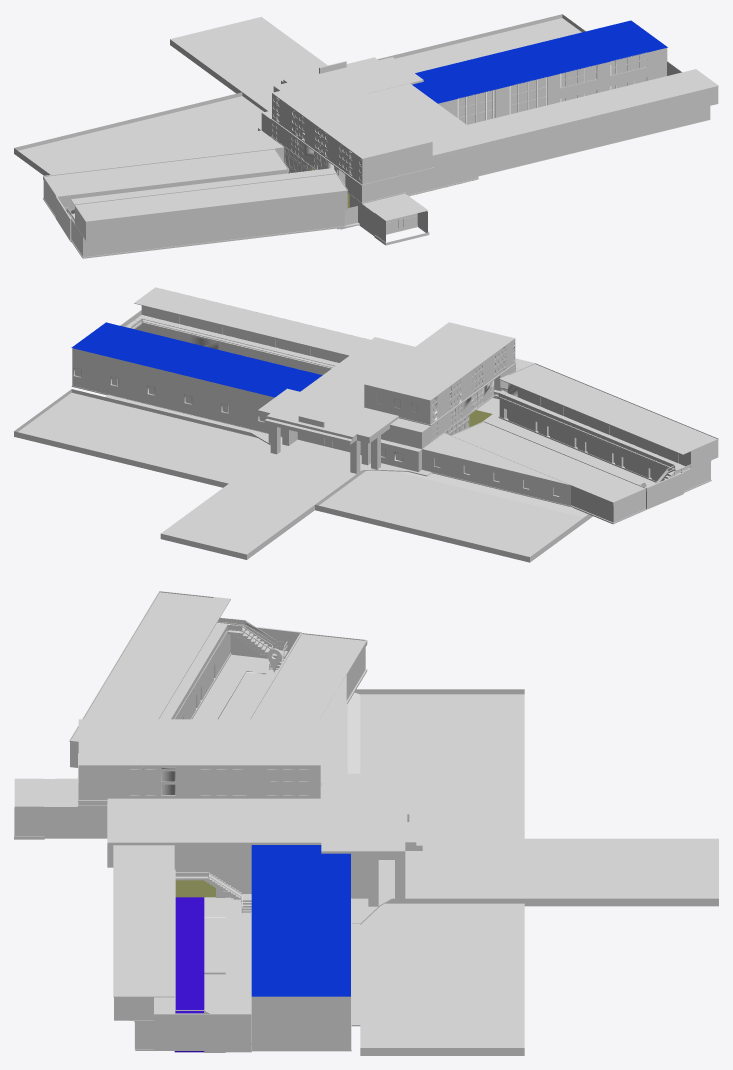
Rendered from BureauxDesProfs.gltf.
3 views of the same model, one above another, from view 1: azimuth 30°, elevation 25°; view 2: azimuth 150°, elevation 25°; view 3: azimuth 270°, elevation 25° (orthographic). The views are drawn at different scales.
Parts seen in each view (by area): view 1: building_134.001, building_008.001, Plane.025, Plane.012, Cube.104, building_008.003, building_048.008, Plane.021, building_004.003, building_048.005, Cube.107, Plane.013 (+19 smaller); view 2: building_134.001, Cube.104, Plane.013, Plane.025, building_008.003, building_048.008, building_131.001, Plane.021, building_004.003, building_008.005, building_048.005, building_008.001 (+22 smaller); view 3: building_134.001, Cube.104, Plane.025, building_048.008, Cube.107, building_008.003, Plane.021, Cube.105, building_004.003, Plane.026, Cube.008, Cube.007 (+27 smaller).
Part boxes in pixels (<box>): building_134.001: <box>18,18,616,174</box>; building_008.001: <box>64,191,347,258</box>; Plane.025: <box>412,20,667,103</box>; Plane.012: <box>478,73,718,176</box>; Cube.104: <box>170,17,327,111</box>; building_008.003: <box>70,168,348,222</box>; building_048.008: <box>272,75,432,158</box>; Plane.021: <box>467,69,718,141</box>; building_004.003: <box>44,149,287,196</box>; building_048.005: <box>271,93,433,185</box>; Cube.107: <box>367,83,489,157</box>; Plane.013: <box>438,48,667,123</box>; building_134.001: <box>14,392,583,562</box>; Cube.104: <box>160,456,352,559</box>; Plane.013: <box>71,327,302,437</box>; Plane.025: <box>71,322,322,397</box>; building_008.003: <box>499,363,718,454</box>; building_048.008: <box>364,322,514,400</box>; building_131.001: <box>422,433,570,506</box>; Plane.021: <box>134,287,370,355</box>; building_004.003: <box>453,422,644,501</box>; building_008.005: <box>499,383,690,478</box>; building_048.005: <box>364,338,516,425</box>; building_008.001: <box>498,387,718,492</box>; building_134.001: <box>354,689,524,1055</box>; Cube.104: <box>418,838,718,906</box>; Plane.025: <box>251,845,350,996</box>; building_048.008: <box>78,719,320,765</box>; Cube.107: <box>107,798,321,845</box>; building_008.003: <box>69,591,230,741</box>; Plane.021: <box>114,845,174,996</box>; Cube.105: <box>321,782,416,845</box>; building_004.003: <box>251,634,364,719</box>; Plane.026: <box>251,996,350,1050</box>; Cube.008: <box>153,1014,251,1050</box>; Cube.007: <box>174,897,204,1052</box>.
Size of the model in its own units: 131 by 14.69 by 96.83.
